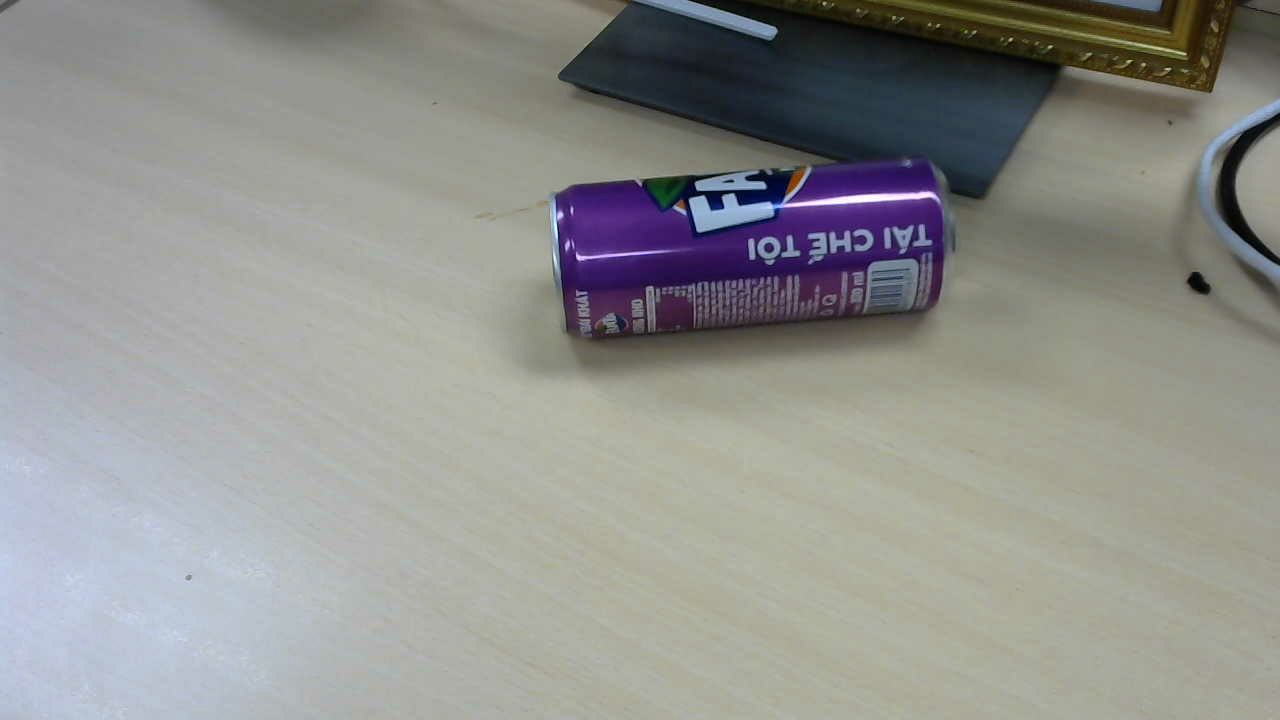Fanta: (557, 161, 961, 349)
